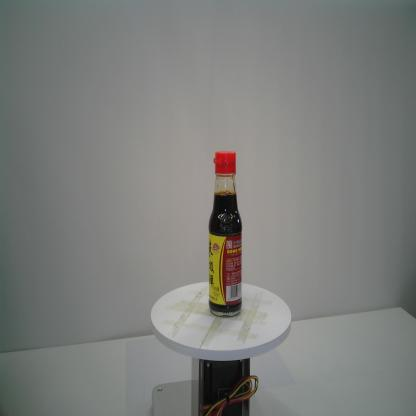Seasoner: (207, 149, 244, 318)
